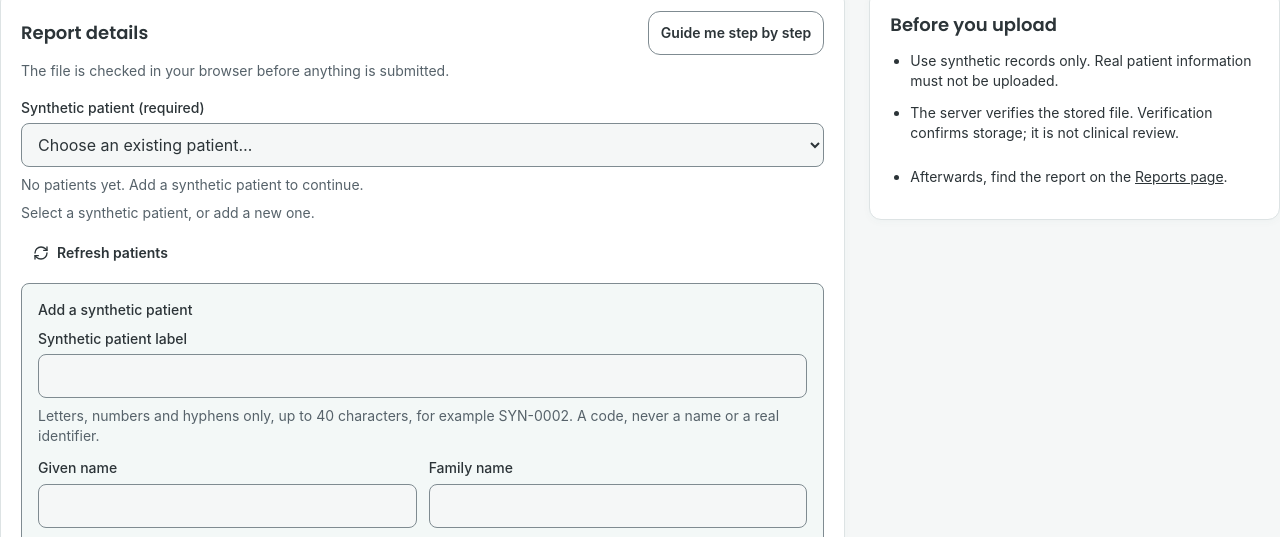
Test case: adding a synthetic patient › offers the form by itself when the roster is empty, then selects the new patient
The image size is (1280, 537).
Check: the text "No patients yet. Add a synthetic patient to continue." is shown, box [21, 175, 364, 195]
Step 1. Type "SYN-0002" into the field labelled "Synthetic patient label" → [423, 376], box [38, 354, 807, 398]
(page scrolled)
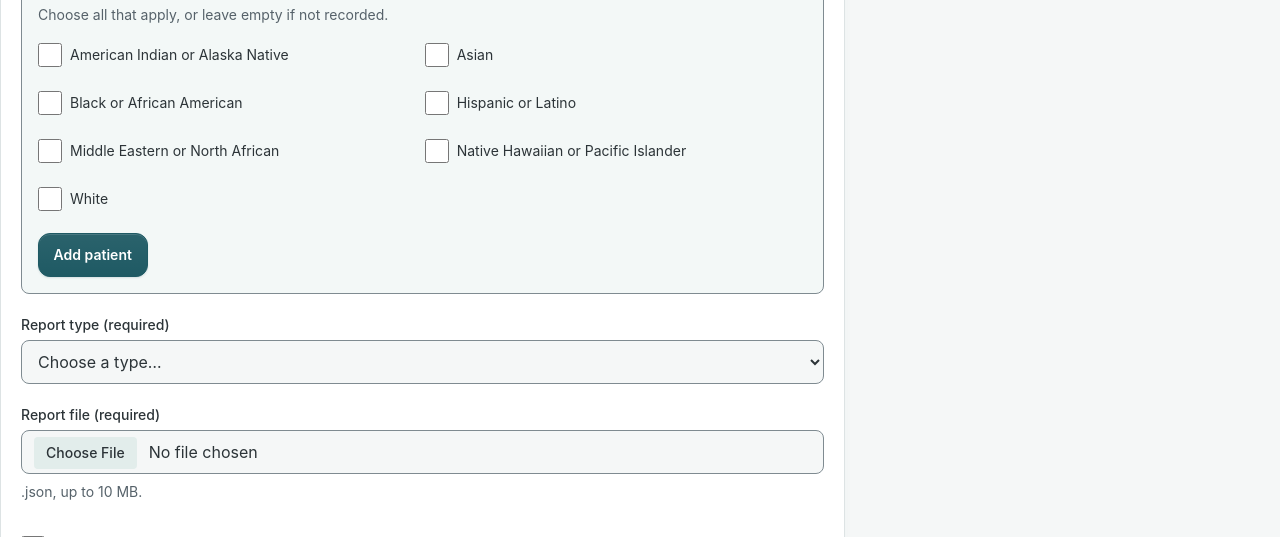
Step 2. Click the button "Add patient" → [93, 255], box [38, 233, 148, 277]
(page scrolled)
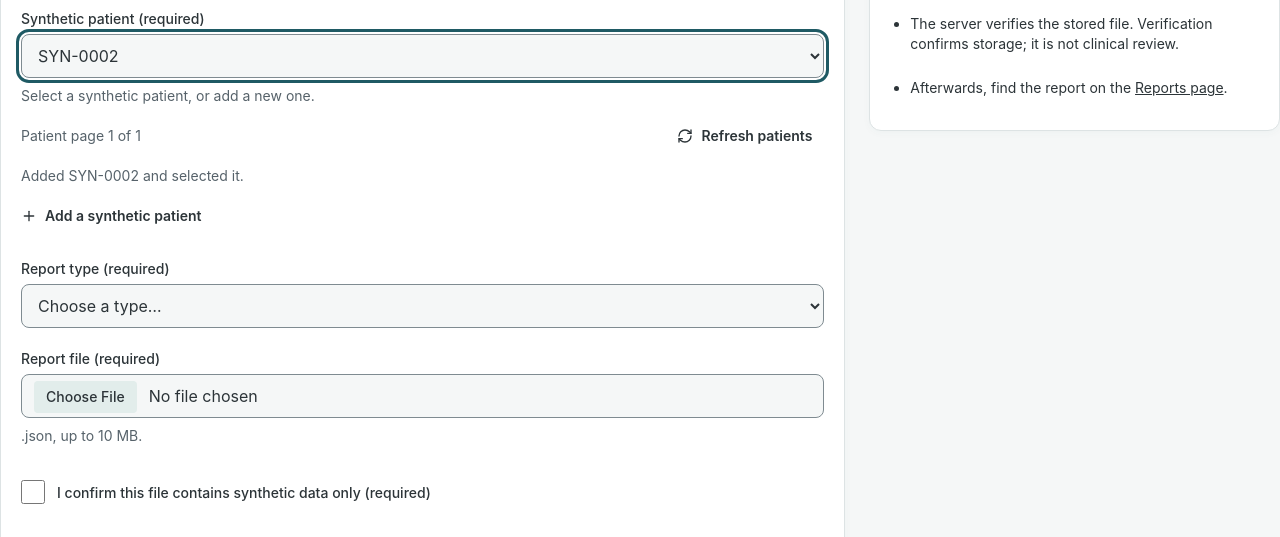
Check: the text "Added SYN-0002 and selected it." is shown, box [21, 167, 244, 184]
Check: the dropdown labelled "Synthetic patient (required)" shows "SYN-0002", box [21, 34, 824, 78]
